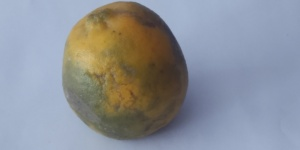BAD: (59, 2, 191, 141)
